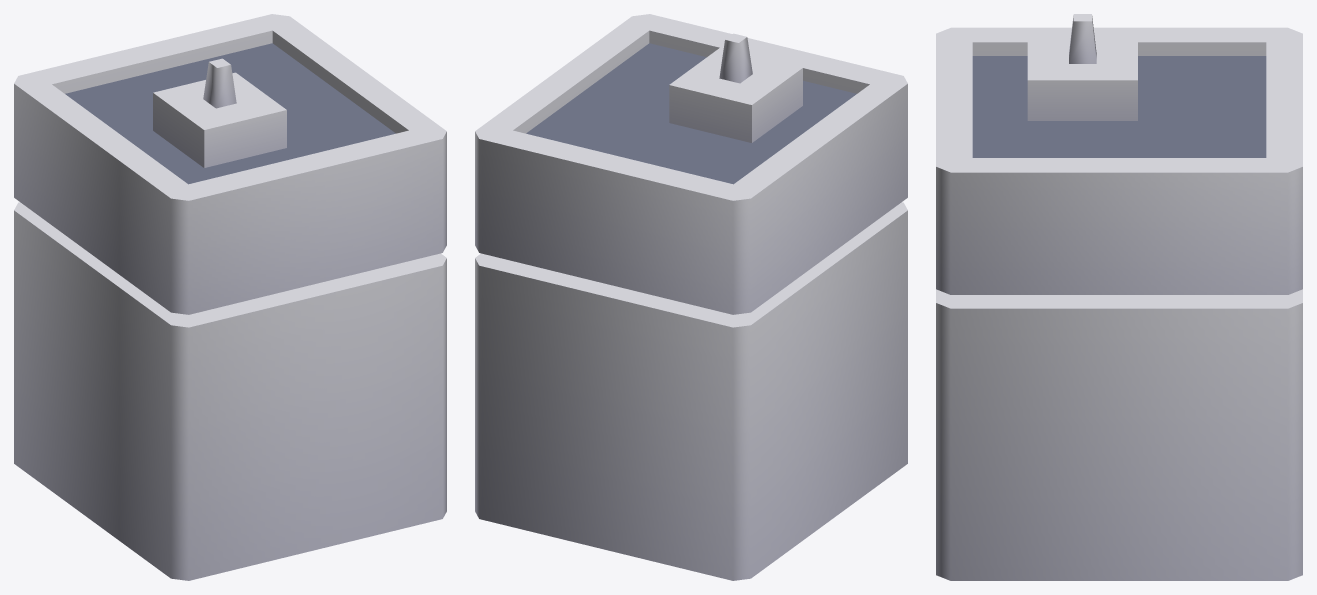
Rendered from building-d_far.glb.
3 renders of one model, left to right at view 1: azimuth 30°, elevation 25°; view 2: azimuth 150°, elevation 25°; view 3: azimuth 270°, elevation 25°, orthographic. The views are drawn at different scales.
Visible parts, largest first — view 1: low-detail-building-d; view 2: low-detail-building-d; view 3: low-detail-building-d.
Part boxes in pixels (x1=…): low-detail-building-d: x1=14, y1=14, x2=446, y2=580; low-detail-building-d: x1=475, y1=14, x2=907, y2=580; low-detail-building-d: x1=936, y1=14, x2=1302, y2=580.
Size of the model in its own units: 0.84 by 1.29 by 0.9.
Materials: 1 (1 with a texture image).
